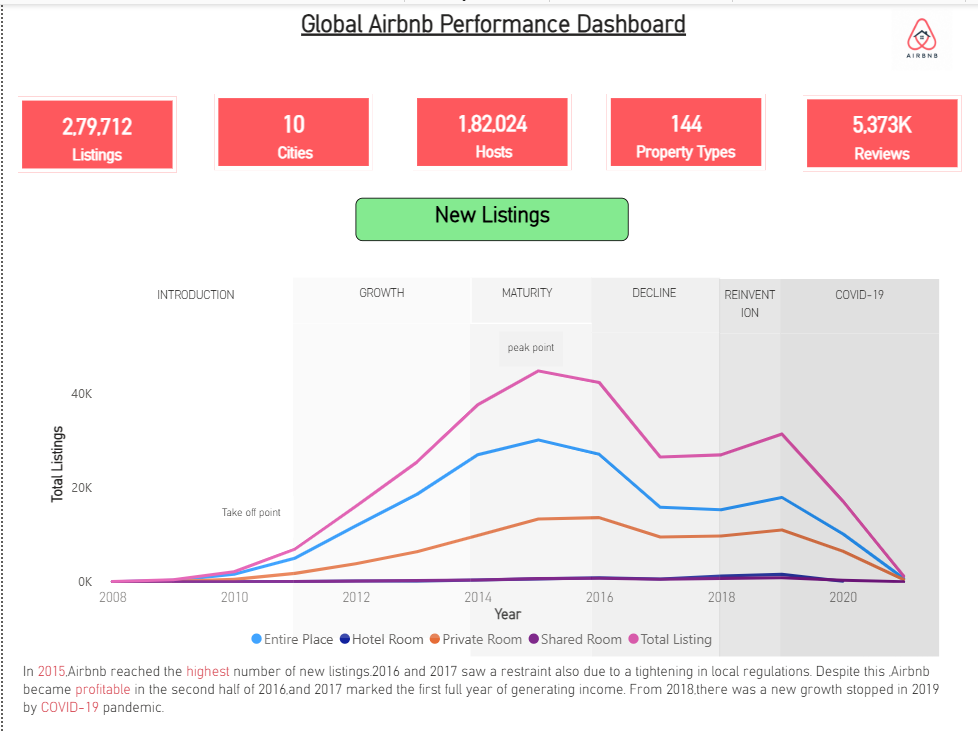

Layout of this report page (visuals, bound fields, positions):
{"tool":"powerbi","page":{"name":"Overview","canvas":[960,720],"ordinal":0},"visuals":[{"type":"textbox","box":[150.4,0,659.1,59.9],"z":0},{"type":"image","box":[847.4,0,103.9,69.7],"z":1000},{"type":"card","fields":{"Values":["CountNonNull(Listings.listing_id)"]},"box":[14.9,90.2,155.3,74.6],"z":2000},{"type":"card","fields":{"Values":["Count(Reviews.review_id)"]},"box":[782.9,89,155.3,74.6],"z":3000},{"type":"card","fields":{"Values":["Count(Listings.property_type)"]},"box":[590.9,87.8,155.3,74.6],"z":4000},{"type":"card","fields":{"Values":["Count(Listings.host_id)"]},"box":[401.3,87.8,155.3,74.6],"z":5000},{"type":"card","fields":{"Values":["Count(Listings.city)"]},"box":[206.9,87.8,155.3,74.6],"z":6000},{"type":"lineChart","fields":{"Category":["Listings.host_since.Variation.Date Hierarchy.Year"],"Y":["Listings.Entire Place","Listings.Hotel Room","Listings.Private Room","Listings.Shared Room","CountNonNull(Listings.listing_id)"]},"box":[40,322,860,318],"z":7000},{"type":"textbox","box":[345,190,267.5,42.5],"z":8000},{"type":"shape","box":[92.5,320,191.2,320],"z":9000},{"type":"shape","box":[284.2,312.5,174.2,307.5],"z":10000},{"type":"shape","box":[457.5,312.5,118.3,325.8],"z":11000},{"type":"shape","box":[575.8,321.7,125.8,320],"z":12000},{"type":"shape","box":[701.1,322.2,60,320],"z":13000},{"type":"shape","box":[761.1,322.2,155.2,320],"z":14000},{"type":"textbox","box":[92.5,268.8,191.2,43.8],"z":15000},{"type":"textbox","box":[283.8,267.5,173.8,45],"z":16000},{"type":"textbox","box":[458.3,268.3,117.5,44.2],"z":17000},{"type":"textbox","box":[575.8,268.3,125.8,53.3],"z":18000},{"type":"textbox","box":[761.1,268.9,155,53.9],"z":19000},{"type":"textbox","box":[701.1,268.9,60,53.9],"z":20000},{"type":"textbox","box":[204,482,80,40],"z":21000},{"type":"textbox","box":[486,320,62,34],"z":22000},{"type":"textbox","box":[15,638.8,922.5,81.2],"z":23000}]}

Visuals, with their boxes in screenshot pixels (x1, y1, x2, y2), scaled from the page's 960x720 canvas onto the 978x732 screenshot:
textbox: {"x1": 153, "y1": 0, "x2": 825, "y2": 61}
image: {"x1": 863, "y1": 0, "x2": 969, "y2": 71}
card - CountNonNull(Listings.listing_id): {"x1": 15, "y1": 92, "x2": 173, "y2": 168}
card - Count(Reviews.review_id): {"x1": 798, "y1": 90, "x2": 956, "y2": 166}
card - Count(Listings.property_type): {"x1": 602, "y1": 89, "x2": 760, "y2": 165}
card - Count(Listings.host_id): {"x1": 409, "y1": 89, "x2": 567, "y2": 165}
card - Count(Listings.city): {"x1": 211, "y1": 89, "x2": 369, "y2": 165}
lineChart - Listings.host_since.Variation.Date Hierarchy.Year x Listings.Entire Place: {"x1": 41, "y1": 327, "x2": 917, "y2": 651}
textbox: {"x1": 351, "y1": 193, "x2": 624, "y2": 236}
shape: {"x1": 94, "y1": 325, "x2": 289, "y2": 651}
shape: {"x1": 290, "y1": 318, "x2": 467, "y2": 630}
shape: {"x1": 466, "y1": 318, "x2": 587, "y2": 649}
shape: {"x1": 587, "y1": 327, "x2": 715, "y2": 652}
shape: {"x1": 714, "y1": 328, "x2": 775, "y2": 653}
shape: {"x1": 775, "y1": 328, "x2": 933, "y2": 653}
textbox: {"x1": 94, "y1": 273, "x2": 289, "y2": 318}
textbox: {"x1": 289, "y1": 272, "x2": 466, "y2": 318}
textbox: {"x1": 467, "y1": 273, "x2": 587, "y2": 318}
textbox: {"x1": 587, "y1": 273, "x2": 715, "y2": 327}
textbox: {"x1": 775, "y1": 273, "x2": 933, "y2": 328}
textbox: {"x1": 714, "y1": 273, "x2": 775, "y2": 328}
textbox: {"x1": 208, "y1": 490, "x2": 289, "y2": 531}
textbox: {"x1": 495, "y1": 325, "x2": 558, "y2": 360}
textbox: {"x1": 15, "y1": 649, "x2": 955, "y2": 731}
